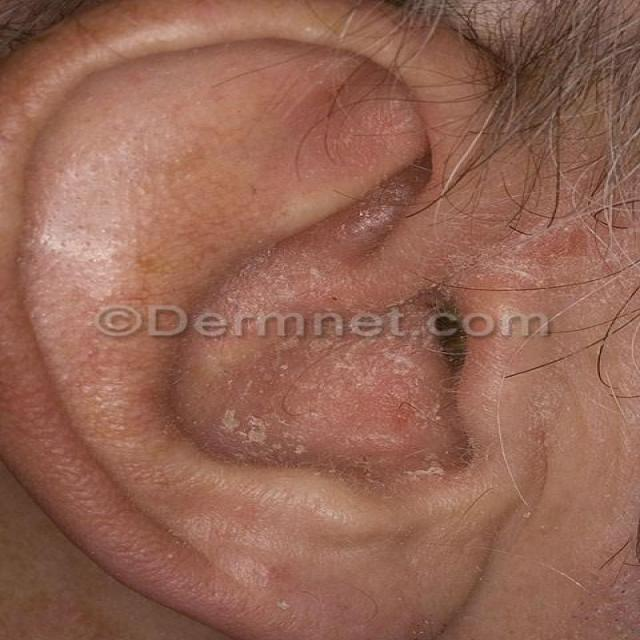Eczema: (145, 142, 584, 530)
